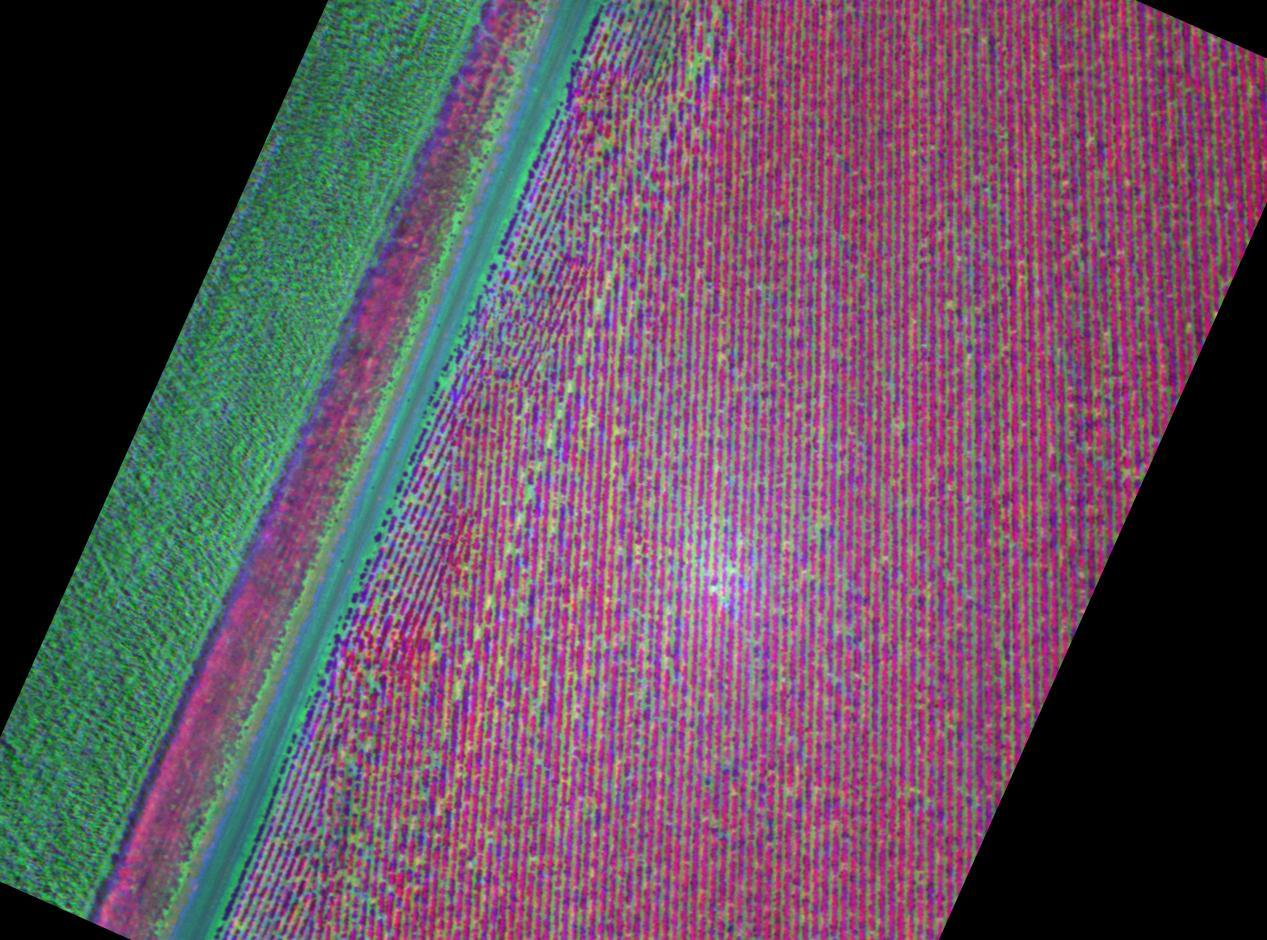dc: (688, 65, 693, 71), (613, 429, 617, 435), (548, 433, 553, 436), (535, 760, 538, 763)
